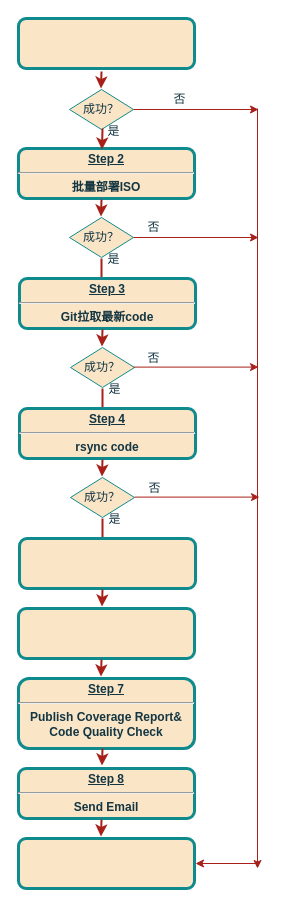
The diagram is 285 pixels wide and 907 high, and some of its shapes have lost their labels. The box of each missing label's shape, as (x1, y1, x2, y2) in pixels:
Step 1 IP地址检测: (16, 16, 196, 70)
Step 5 运行测试用例: (18, 536, 196, 590)
Step 6 汇总测试结果: (16, 606, 196, 660)
Step 9 CI结束: (16, 836, 196, 890)
